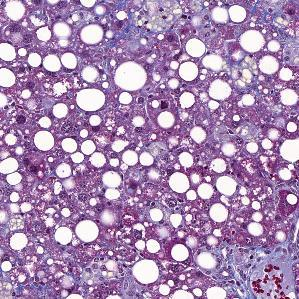fibrosis: (215, 238, 271, 282)
